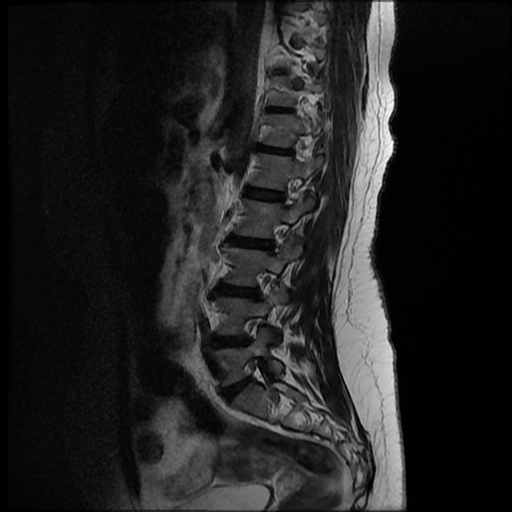LFS0: (244, 260, 283, 307), (256, 215, 297, 259), (236, 352, 279, 392), (236, 307, 274, 351), (271, 171, 308, 215)
